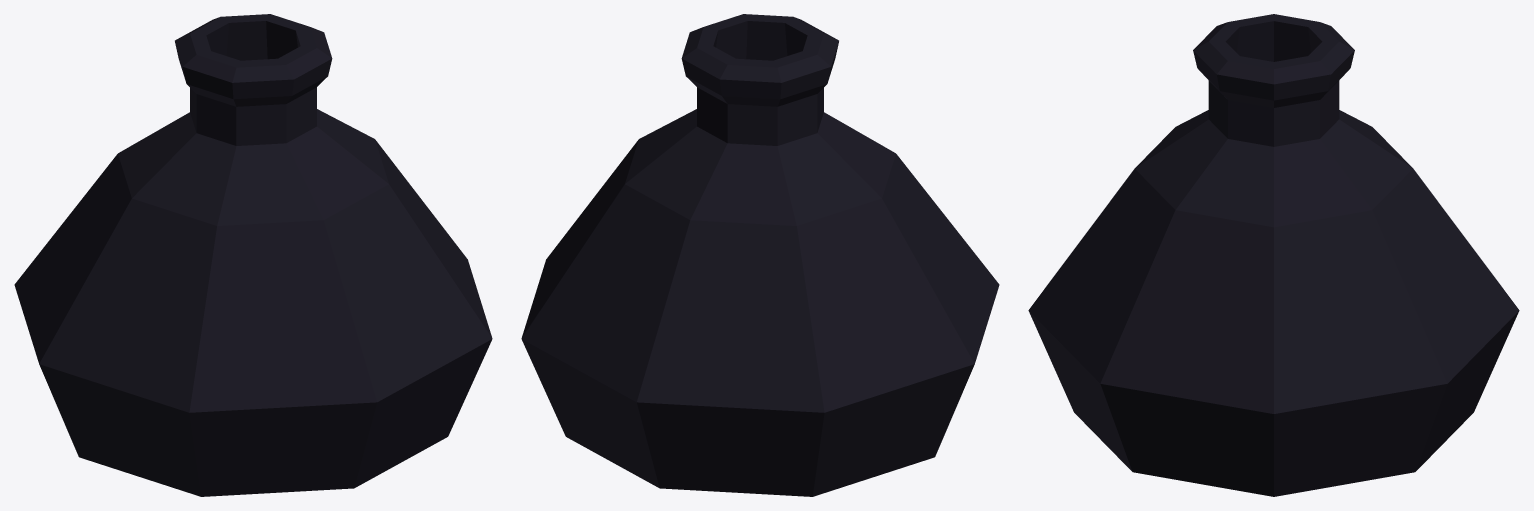
Rendered from inkwell.fbx.
3 renders of one model, left to right at view 1: azimuth 30°, elevation 25°; view 2: azimuth 150°, elevation 25°; view 3: azimuth 270°, elevation 25°, orthographic.
Parts seen in each view (by area): view 1: inkwell; view 2: inkwell; view 3: inkwell.
Boxes of the visible parts, <box> form: inkwell: <box>14,14,492,496</box>; inkwell: <box>521,14,999,496</box>; inkwell: <box>1028,14,1519,496</box>.
Bounding box in the file's own units: 6 × 5 × 6.
